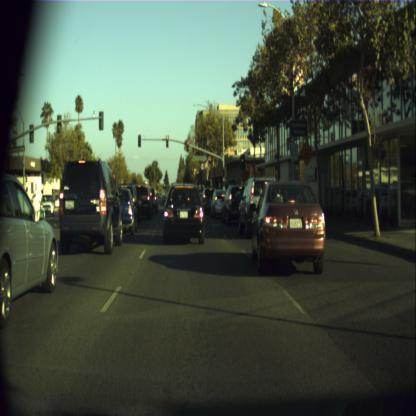Red: (240, 154, 245, 168), (186, 140, 189, 150), (138, 134, 140, 146), (166, 135, 168, 147)
